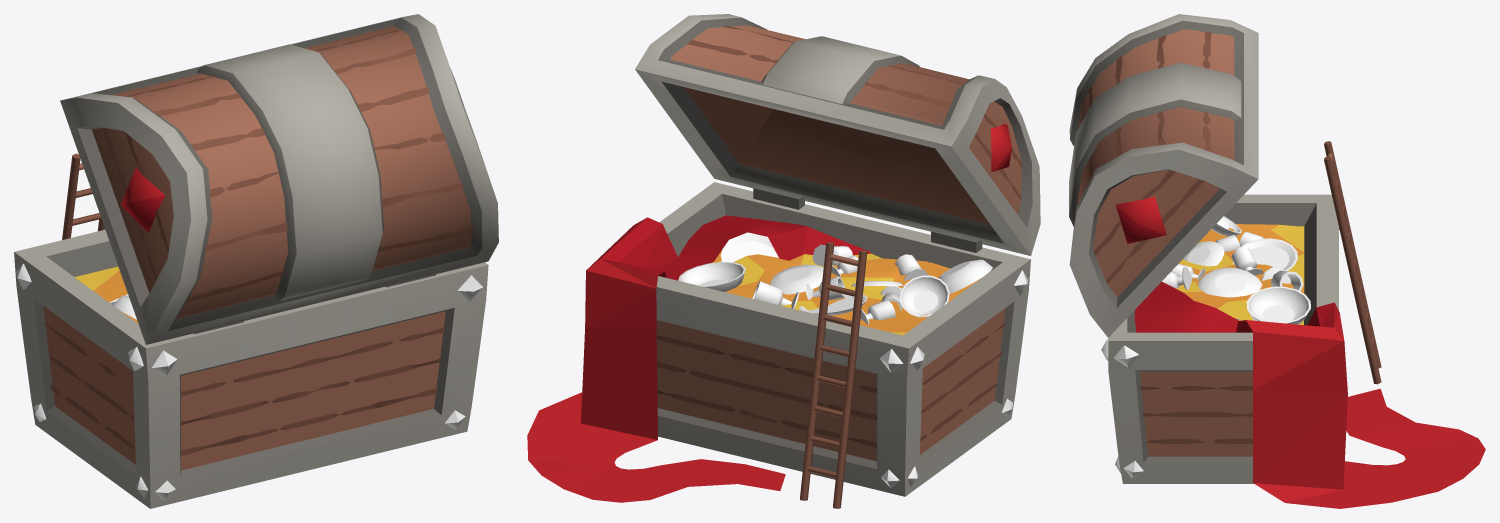
The model's file is treasure01.fbx.
3 views of the same model, side by side, from view 1: azimuth 30°, elevation 25°; view 2: azimuth 150°, elevation 25°; view 3: azimuth 270°, elevation 25° (orthographic). The views are drawn at different scales.
Visible parts, largest first — view 1: treasure01; view 2: treasure01; view 3: treasure01.
Boxes of the visible parts, x1=… form: treasure01: x1=14, y1=14, x2=498, y2=508; treasure01: x1=527, y1=14, x2=1040, y2=508; treasure01: x1=1069, y1=14, x2=1485, y2=508.
Bounding box in the file's own units: 214 × 194 × 218.
Materials: 3 (1 with a texture image).
